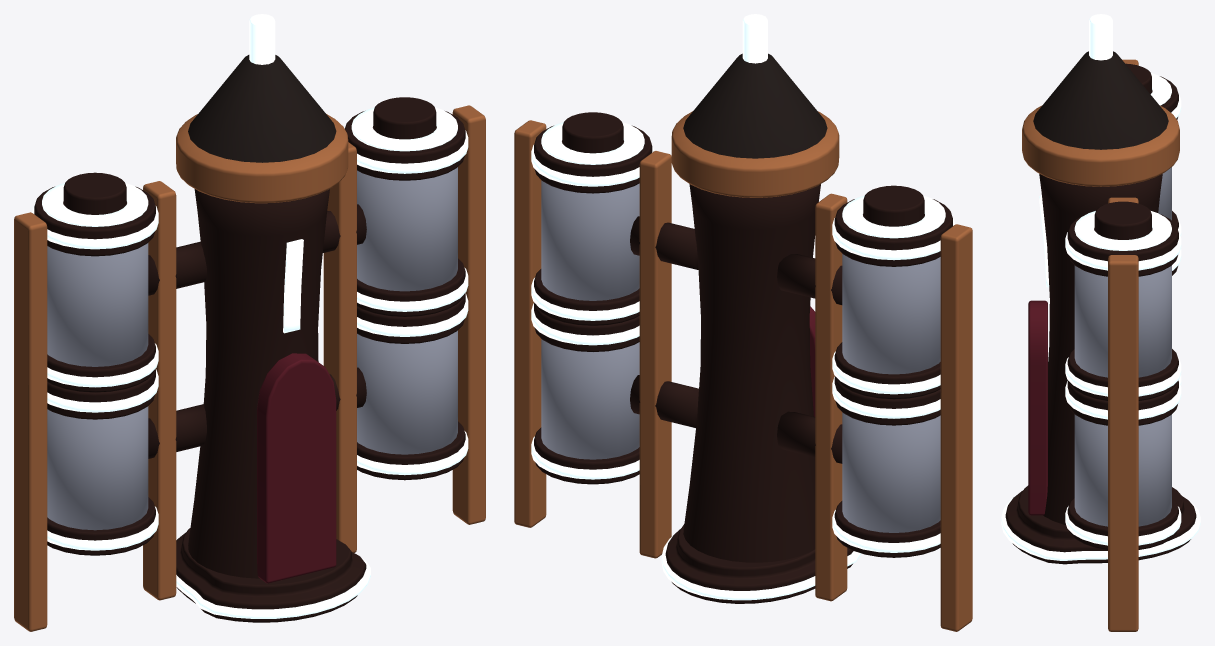
The model's file is Vat_T4.glb.
The picture shows the model from 3 angles, left to right: view 1: azimuth 30°, elevation 25°; view 2: azimuth 150°, elevation 25°; view 3: azimuth 270°, elevation 25°; orthographic projection. The views are drawn at different scales.
Parts seen in each view (by area): view 1: H_TankPosts.003, H_TankGoo.003, H_Spire.003, H_TankCaps.003, H_DoorArch.003, H_TankNeon.003, H_Roof.003, H_Capital.003, H_Plinth.003, H_TankPipes.003, H_PlinthNeon.003, H_SpireNeon.003 (+1 smaller); view 2: H_TankPosts.003, H_TankGoo.003, H_Spire.003, H_TankCaps.003, H_TankNeon.003, H_Roof.003, H_TankPipes.003, H_Capital.003, H_Plinth.003, H_PlinthNeon.003, H_Tip.003; view 3: H_TankGoo.003, H_TankPosts.003, H_Spire.003, H_Roof.003, H_TankCaps.003, H_Capital.003, H_TankNeon.003, H_DoorArch.003, H_Plinth.003, H_PlinthNeon.003, H_Tip.003, H_SpireNeon.003.
Boxes of the visible parts, x1=… form: H_TankPosts.003: x1=14, y1=105, x2=485, y2=631; H_TankGoo.003: x1=47, y1=167, x2=457, y2=530; H_Spire.003: x1=188, y1=189, x2=329, y2=578; H_TankCaps.003: x1=34, y1=97, x2=465, y2=555; H_DoorArch.003: x1=257, y1=353, x2=336, y2=583; H_TankNeon.003: x1=32, y1=107, x2=468, y2=550; H_Roof.003: x1=188, y1=55, x2=336, y2=162; H_Capital.003: x1=176, y1=114, x2=348, y2=203; H_Plinth.003: x1=176, y1=528, x2=366, y2=622; H_TankPipes.003: x1=148, y1=204, x2=366, y2=458; H_PlinthNeon.003: x1=176, y1=537, x2=370, y2=618; H_SpireNeon.003: x1=283, y1=239, x2=303, y2=333; H_TankPosts.003: x1=514, y1=120, x2=972, y2=631; H_TankGoo.003: x1=541, y1=180, x2=940, y2=532; H_Spire.003: x1=683, y1=184, x2=820, y2=562; H_TankCaps.003: x1=534, y1=112, x2=952, y2=557; H_TankNeon.003: x1=531, y1=122, x2=955, y2=552; H_Roof.003: x1=683, y1=53, x2=827, y2=158; H_TankPipes.003: x1=630, y1=216, x2=842, y2=463; H_Capital.003: x1=671, y1=111, x2=839, y2=197; H_Plinth.003: x1=665, y1=524, x2=853, y2=603; H_PlinthNeon.003: x1=661, y1=536, x2=861, y2=600; H_Tip.003: x1=742, y1=14, x2=767, y2=63; H_TankGoo.003: x1=1074, y1=167, x2=1171, y2=526; H_TankPosts.003: x1=1108, y1=59, x2=1138, y2=631; H_Spire.003: x1=1039, y1=174, x2=1162, y2=524; H_Roof.003: x1=1033, y1=51, x2=1168, y2=149; H_TankCaps.003: x1=1067, y1=63, x2=1178, y2=549; H_Capital.003: x1=1022, y1=105, x2=1179, y2=186; H_TankNeon.003: x1=1065, y1=73, x2=1181, y2=545; H_DoorArch.003: x1=1028, y1=300, x2=1047, y2=515; H_Plinth.003: x1=1005, y1=485, x2=1196, y2=564; H_PlinthNeon.003: x1=1001, y1=494, x2=1200, y2=560; H_Tip.003: x1=1089, y1=14, x2=1112, y2=60; H_SpireNeon.003: x1=1039, y1=196, x2=1048, y2=287.
Size of the model in its own units: 6.89 by 8.09 by 2.85.
